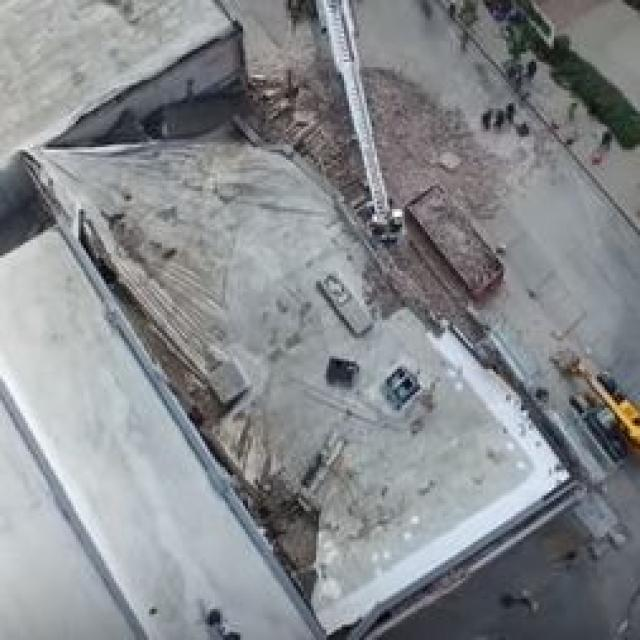collapsed_building: (84, 80, 504, 604)
